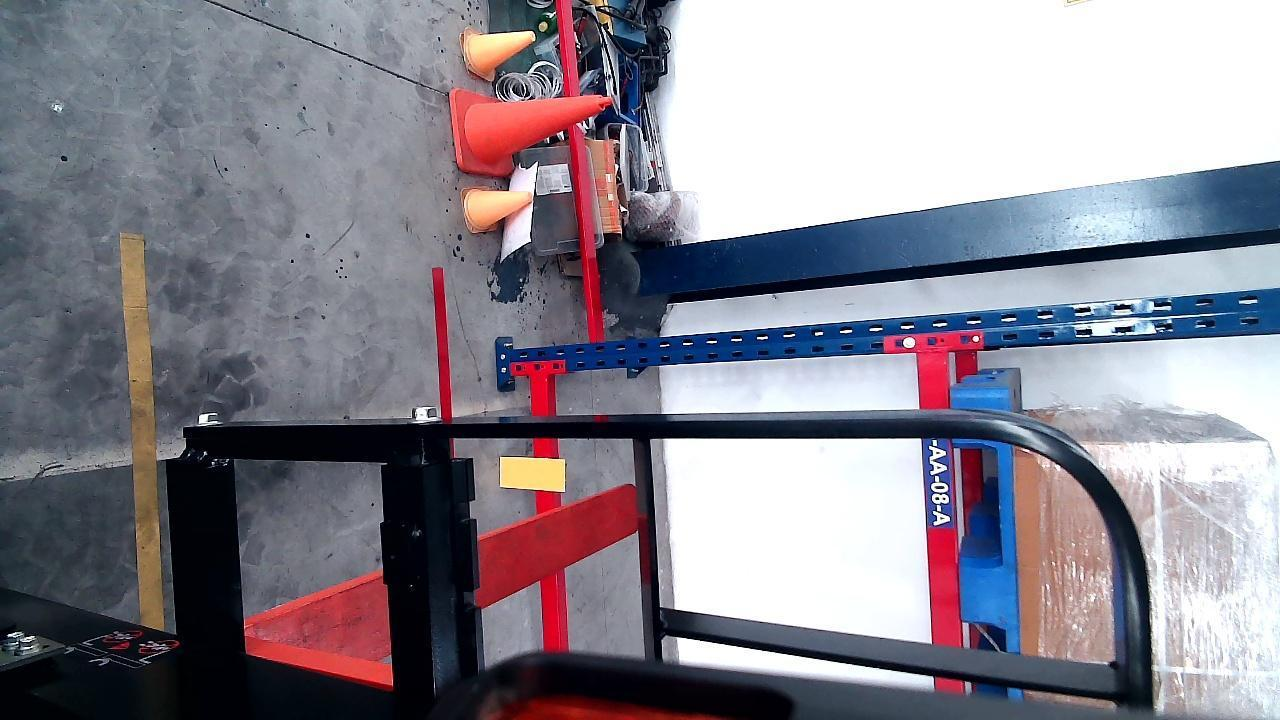h_rack: (923, 378, 961, 651), (527, 374, 565, 644)
orange_strip: (497, 455, 565, 491)
small_pallet: (957, 428, 1019, 652)
yellow_line: (126, 228, 164, 625)
